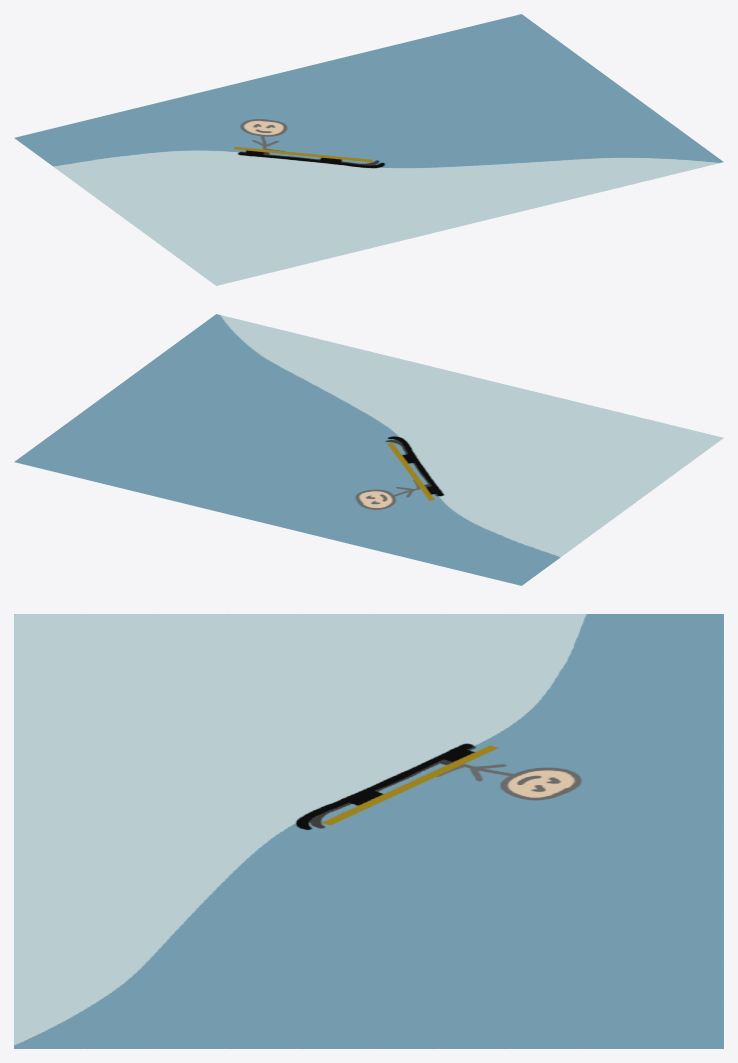
File: WinterAnim7.fbx
3 renders of one model, top to bottom at view 1: azimuth 30°, elevation 25°; view 2: azimuth 150°, elevation 25°; view 3: azimuth 270°, elevation 25°, orthographic. The views are drawn at different scales.
Visible parts, largest first — view 1: pPlane1; view 2: pPlane1; view 3: pPlane1.
Part boxes in pixels (bbox=[...]): pPlane1: bbox=[14, 14, 723, 285]; pPlane1: bbox=[14, 314, 723, 585]; pPlane1: bbox=[14, 614, 723, 1048].
Bounding box in the file's own units: 7.78 × 5.08e-16 × 5.37.
1 material, 1 textured.
